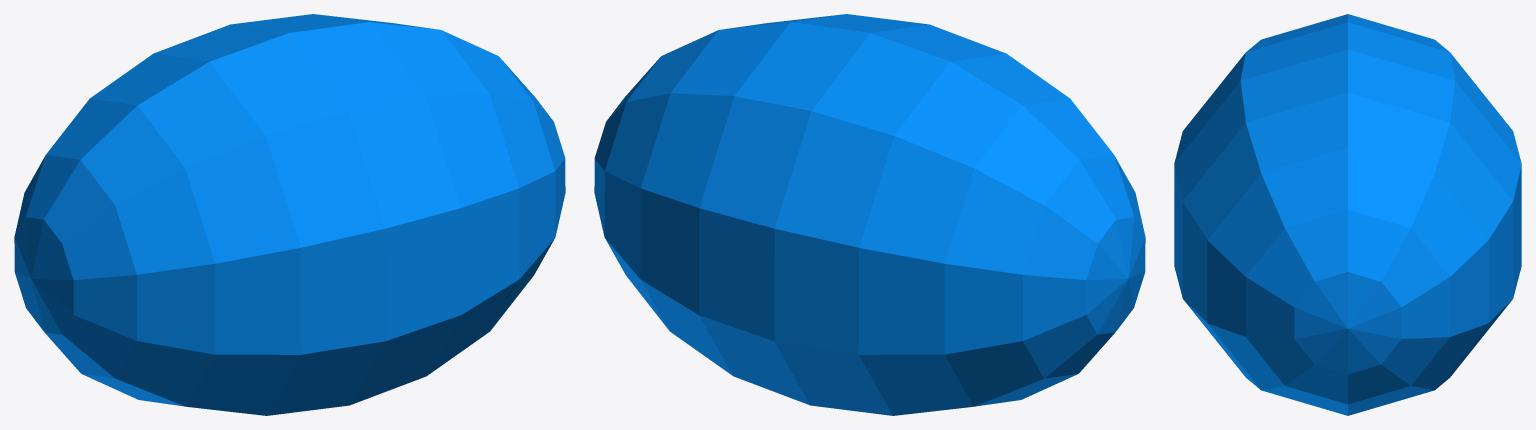
The model's file is sweet_ball_2.fbx.
The picture shows the model from 3 angles, left to right: view 1: azimuth 30°, elevation 25°; view 2: azimuth 150°, elevation 25°; view 3: azimuth 270°, elevation 25°; orthographic projection. The views are drawn at different scales.
Visible parts, largest first — view 1: ball_sweet1; view 2: ball_sweet1; view 3: ball_sweet1.
Part boxes in pixels (x1=…): ball_sweet1: x1=14, y1=14, x2=565, y2=415; ball_sweet1: x1=594, y1=14, x2=1145, y2=415; ball_sweet1: x1=1174, y1=14, x2=1521, y2=415.
Bounding box in the file's own units: 1.54 × 1.03 × 0.9838.
